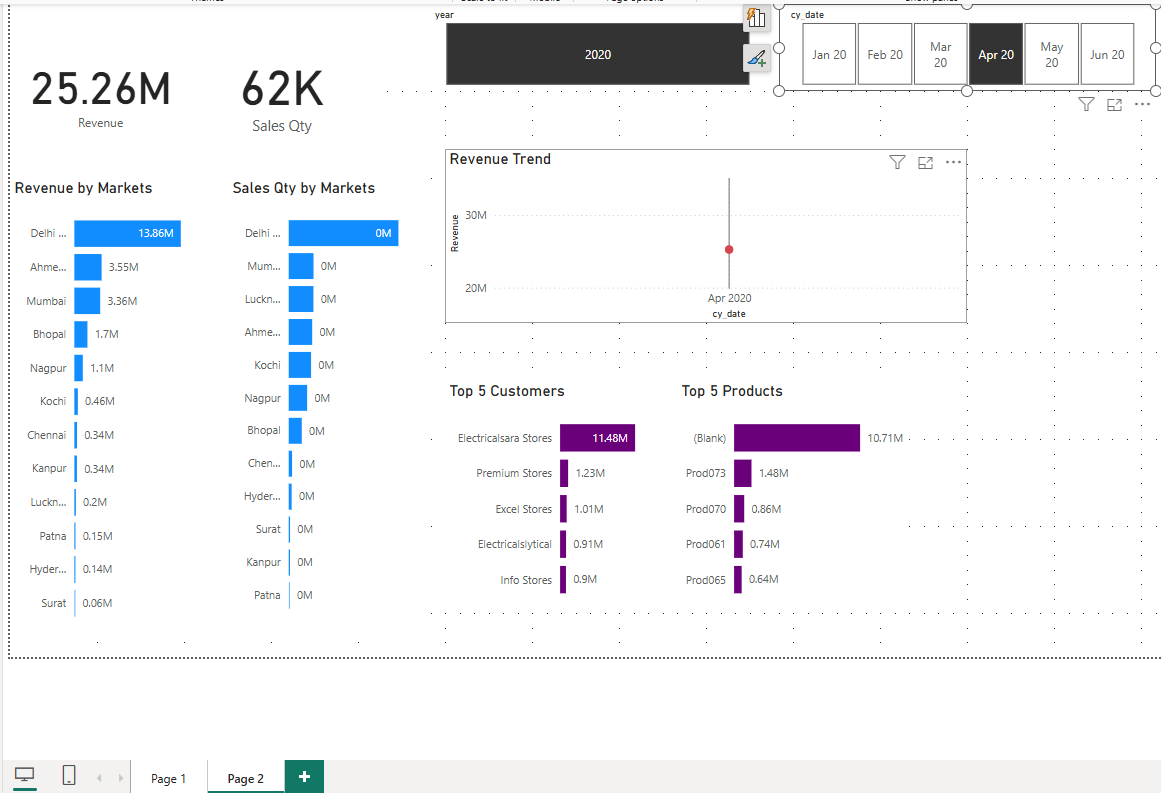

This screenshot's page, from the dashboard's own definition file:
{"tool":"powerbi","page":{"name":"Page 2","canvas":[1280,720],"ordinal":1},"visuals":[{"type":"card","fields":{"Values":["BaseMeasures.Revenue"]},"box":[0,0,200,192],"z":0},{"type":"card","fields":{"Values":["BaseMeasures.Sales Qty"]},"box":[192,0,216,192],"z":1000},{"type":"barChart","title":"Revenue by Markets","fields":{"Y":["BaseMeasures.Revenue"],"Category":["sales markets.markets_name"]},"box":[0,192,232,504],"z":2000},{"type":"barChart","title":"Sales Qty by Markets","fields":{"Y":["BaseMeasures.Sales Qty"],"Category":["sales markets.markets_name"]},"box":[240,192,216,504],"z":3000},{"type":"slicer","fields":{"Values":["sales date.year"]},"box":[456,0,384,96],"z":4000},{"type":"slicer","fields":{"Values":["sales date.cy_date"]},"box":[848,0,416,96],"z":5000},{"type":"barChart","title":"Top 5 Customers","fields":{"Y":["BaseMeasures.Revenue"],"Category":["sales customers.custmer_name"]},"box":[480,416,256,256],"z":6000},{"type":"barChart","title":"Top 5 Products","fields":{"Y":["BaseMeasures.Revenue"],"Category":["sales products.product_code"]},"box":[736,416,256,256],"z":7000},{"type":"lineChart","title":"Revenue Trend","fields":{"Y":["BaseMeasures.Revenue"],"Category":["sales date.cy_date"]},"box":[480,160,576,192],"z":8000}]}

Visuals, with their boxes on the page's 1280x720 design canvas (x1, y1, x2, y2). These are canvas units, not pixel positions in the 1161x793 screenshot, which may show the page scaled, cropped or inside an application window:
card - BaseMeasures.Revenue: x1=0 y1=0 x2=200 y2=192
card - BaseMeasures.Sales Qty: x1=192 y1=0 x2=408 y2=192
"Revenue by Markets" barChart: x1=0 y1=192 x2=232 y2=696
"Sales Qty by Markets" barChart: x1=240 y1=192 x2=456 y2=696
slicer - sales date.year: x1=456 y1=0 x2=840 y2=96
slicer - sales date.cy_date: x1=848 y1=0 x2=1264 y2=96
"Top 5 Customers" barChart: x1=480 y1=416 x2=736 y2=672
"Top 5 Products" barChart: x1=736 y1=416 x2=992 y2=672
"Revenue Trend" lineChart: x1=480 y1=160 x2=1056 y2=352
